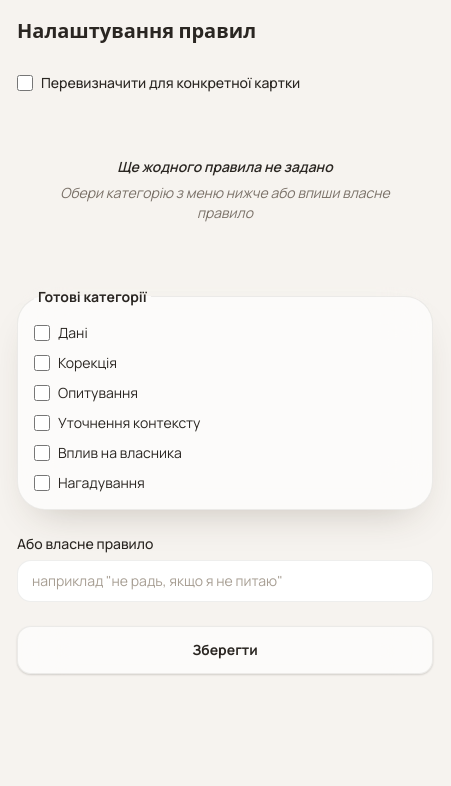
card-scope: перемикання показує CardPicker і перезавантажує правила саме для цієї картки (AC-12)
Expected: the text "Дані" is shown, [34,322,88,342]
Click the checkbox labelled "Перевизначити для конкретної картки" at [25, 82], box [17,74,33,90]
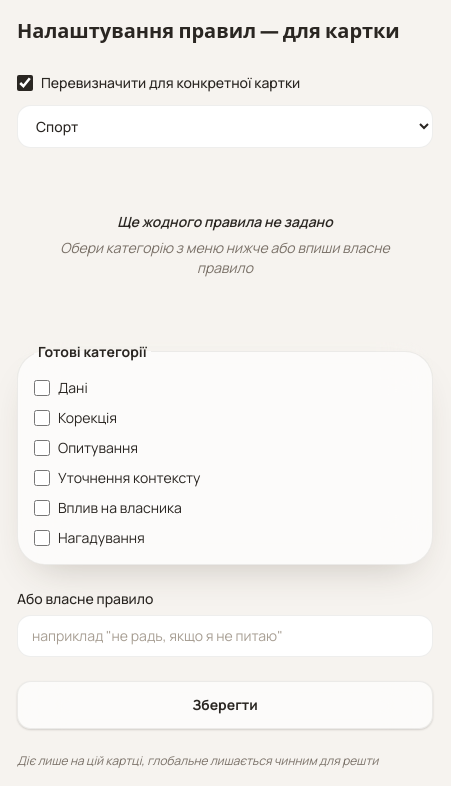
Expected: the dropdown named "Картка" is shown, [17,104,433,148]
Expected: the heading "Налаштування правил — для картки" is shown, [17,16,433,48]
Expected: the text "Діє лише на цій картці, глобальне лишається чинним для решти" is shown, [17,753,433,769]
Вимкнення перевизначення ховає CardPicker і повертає глобальний scope.
Click the checkbox labelled "Перевизначити для конкретної картки" at [25, 82], box [17,74,33,90]
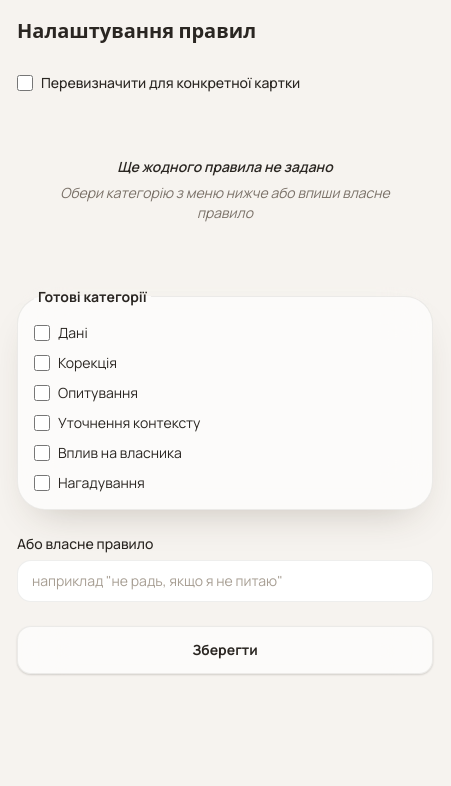
Expected: the dropdown labelled "Картка" is gone
